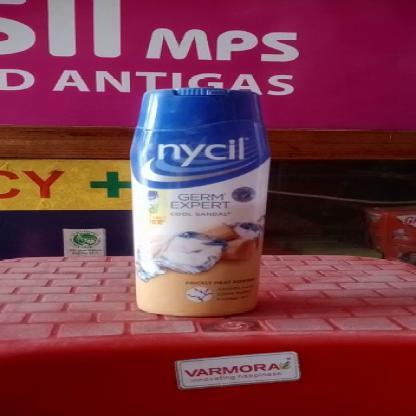Nycil Prickly Heat Powder: (132, 87, 270, 320)
